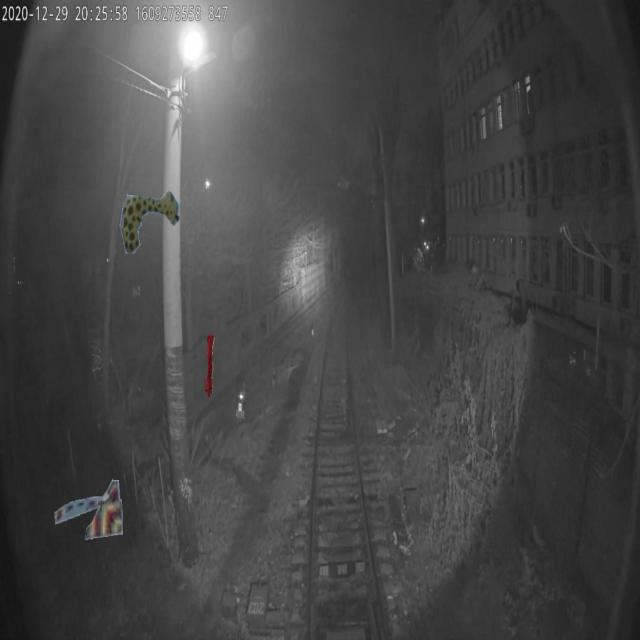floating object: (54, 476, 128, 540), (120, 190, 179, 253), (205, 333, 215, 398)
